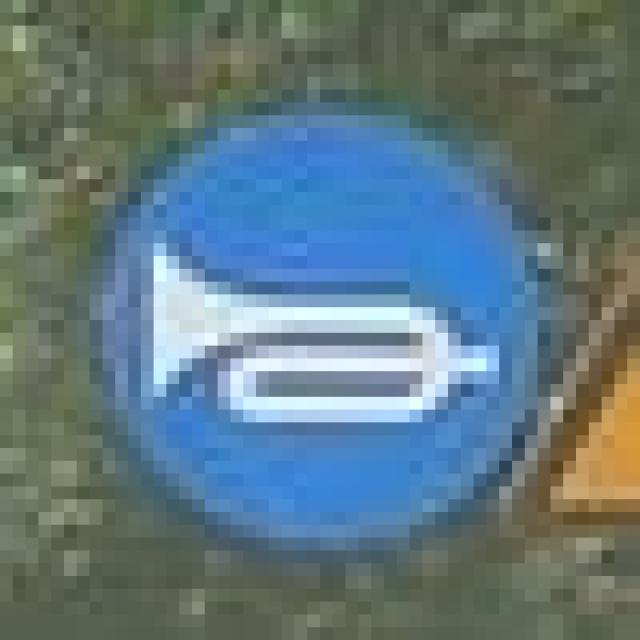COMPULSARY_SOUND_HORN: (77, 64, 550, 550)
